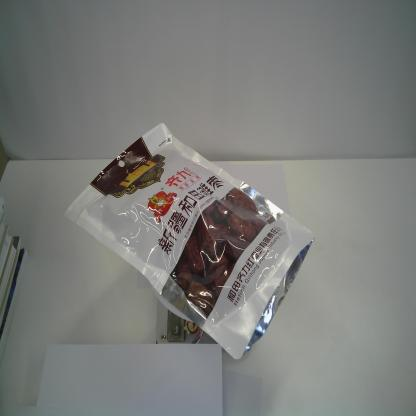Dried Food: (61, 120, 317, 362)
